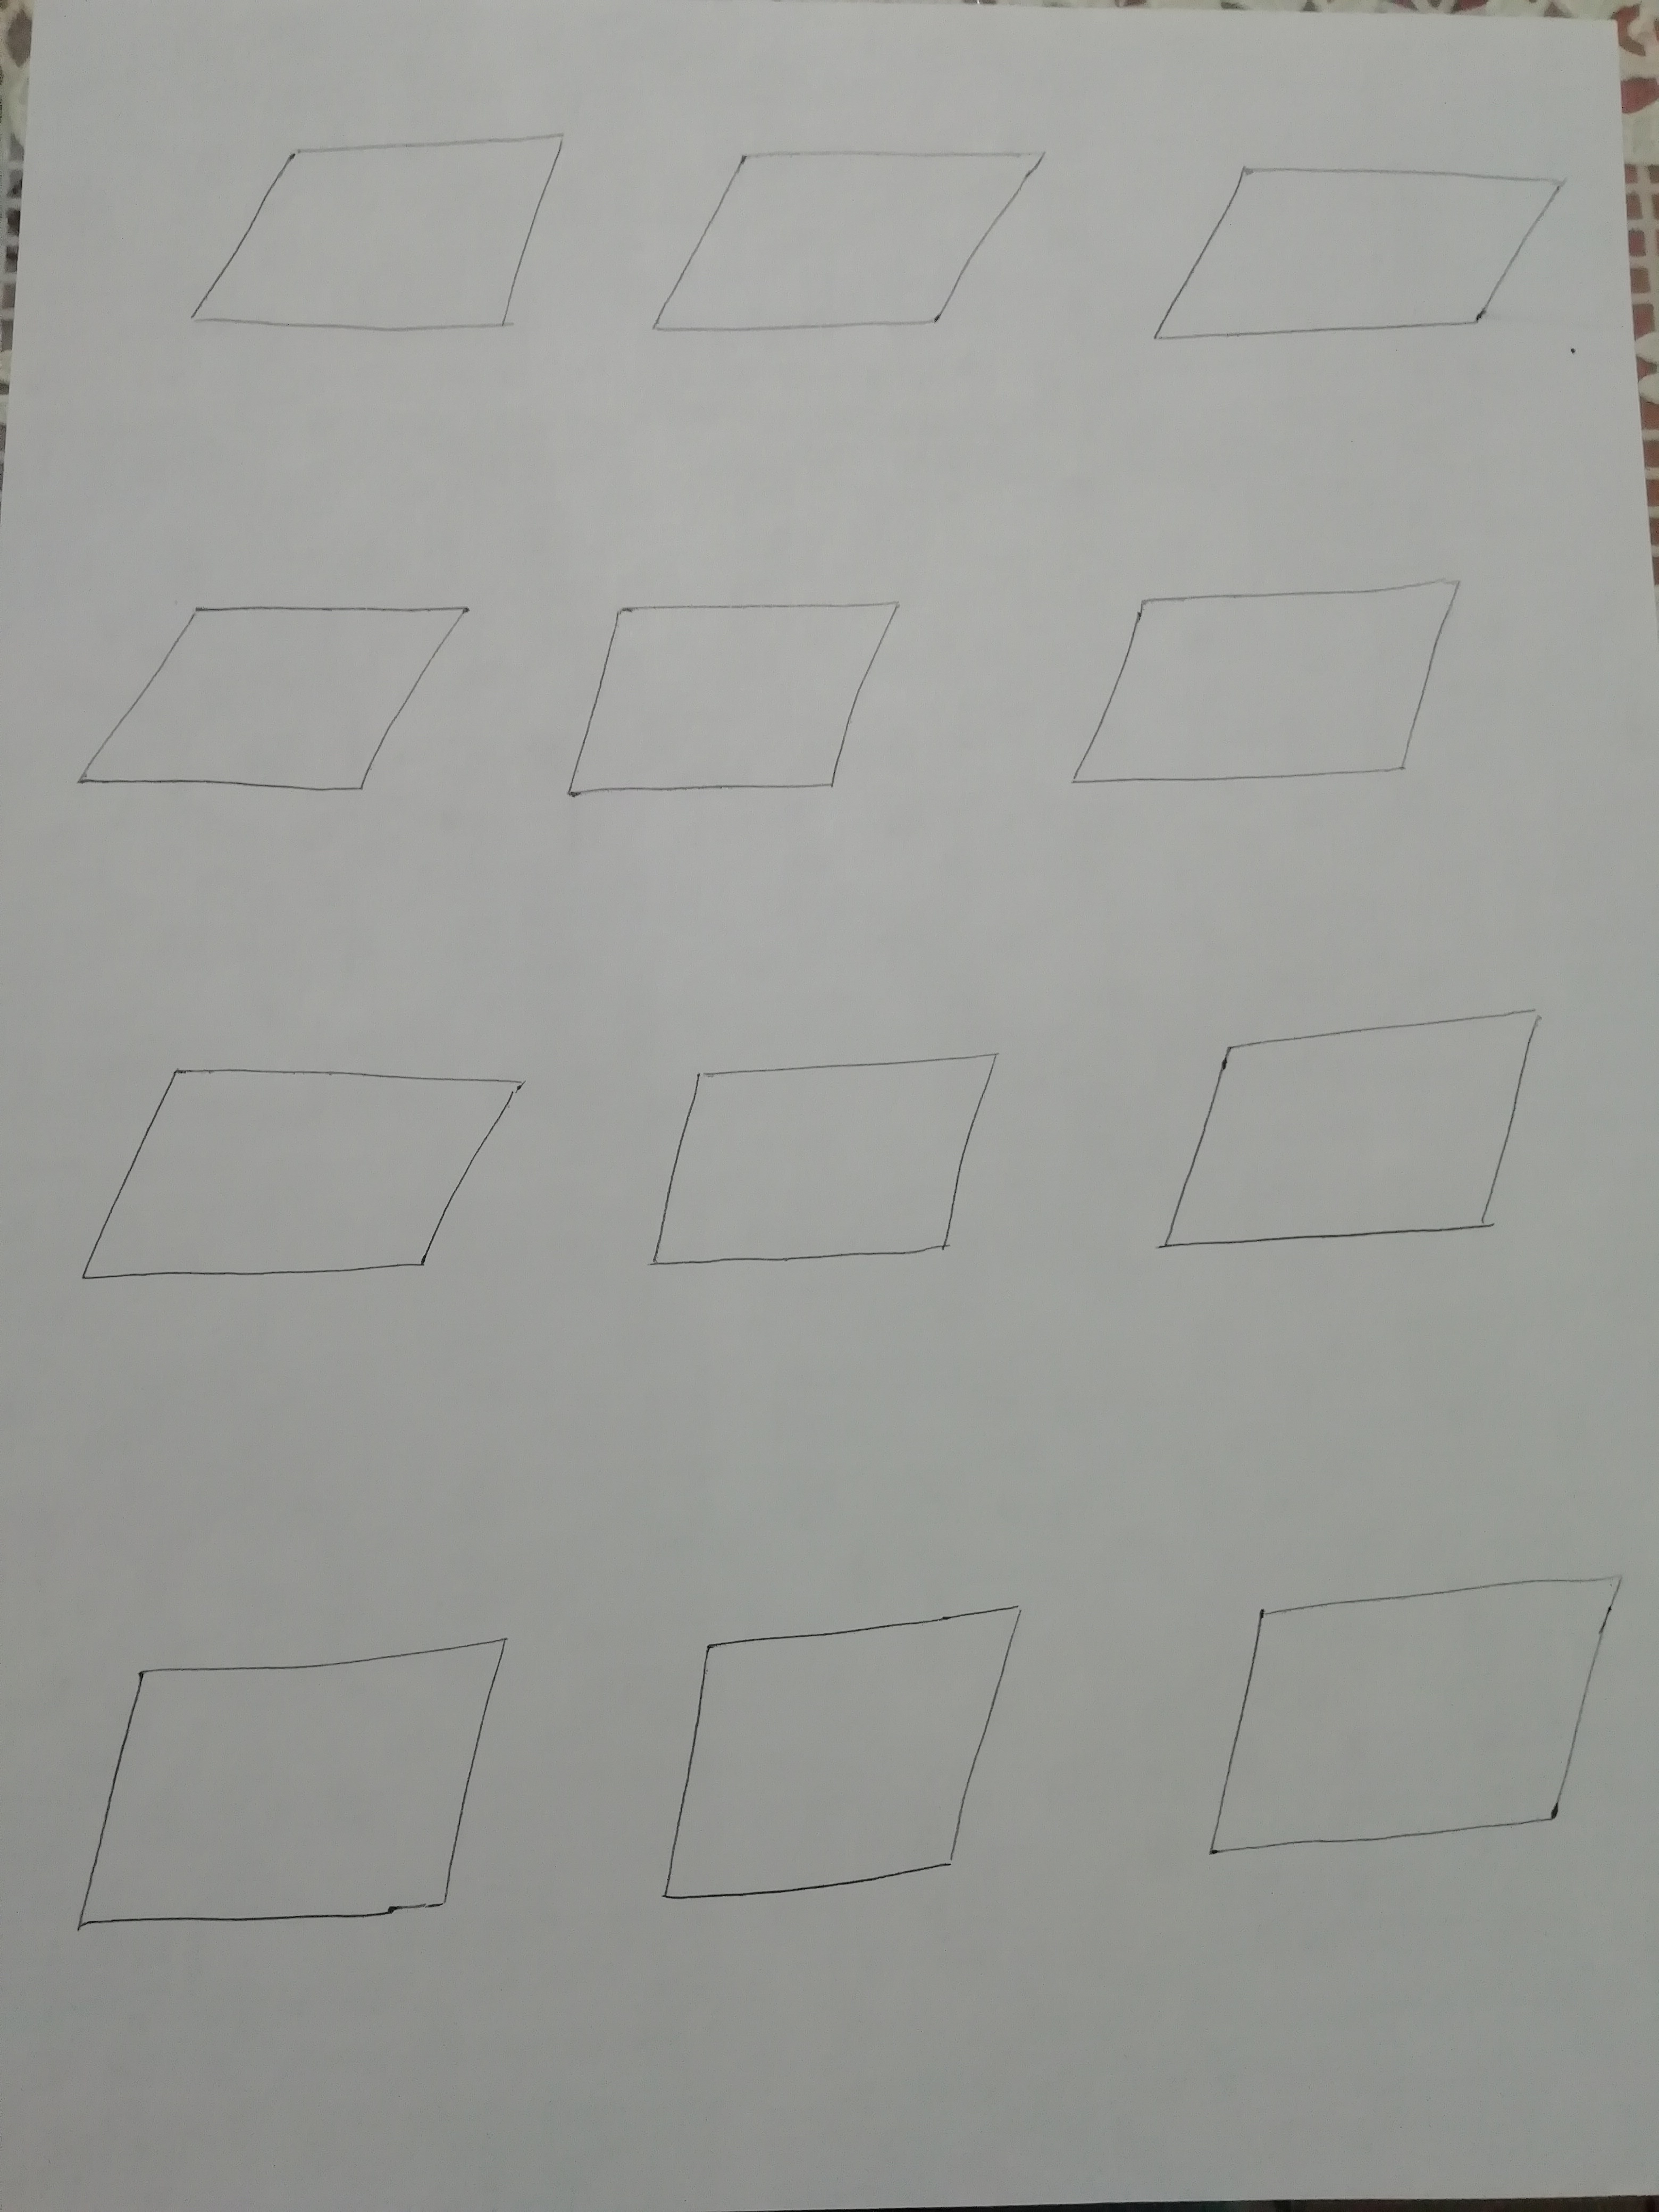scan: (1175, 1517, 1640, 1939), (44, 1616, 537, 1982), (629, 1575, 1058, 1942), (40, 1038, 544, 1343), (143, 89, 615, 401), (30, 556, 491, 869), (1126, 993, 1579, 1298), (640, 110, 1065, 415), (1133, 131, 1593, 394), (1047, 566, 1497, 826), (629, 1035, 1030, 1325), (544, 585, 924, 840)
